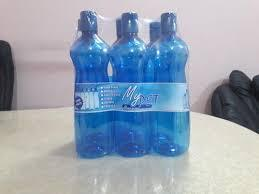Plastic bottle: (137, 13, 192, 165), (105, 7, 153, 161), (67, 5, 112, 165)
